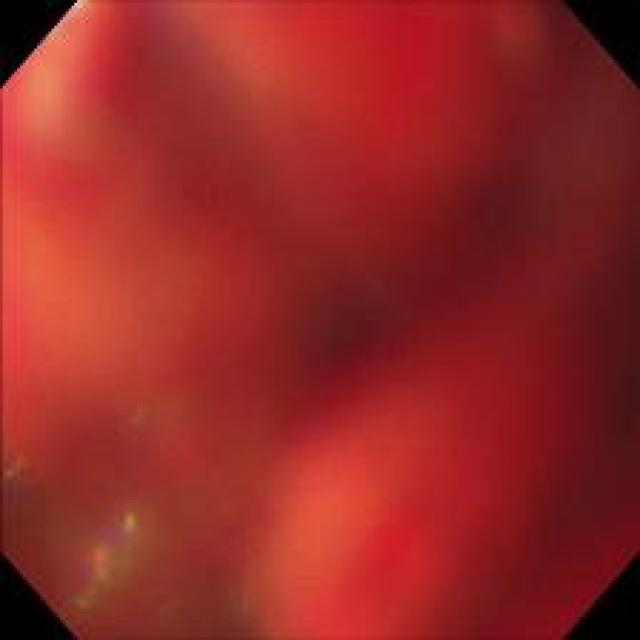blur: (2, 5, 635, 636)
color misalignment: (9, 9, 621, 630), (58, 486, 146, 628), (105, 398, 160, 434)
